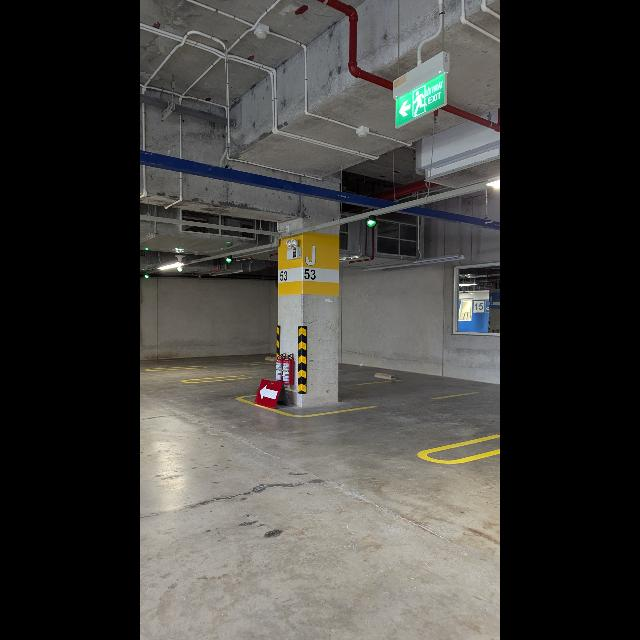exit: (395, 70, 445, 128)
